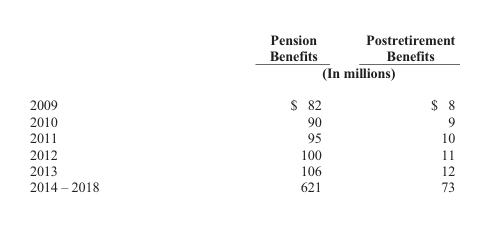table: (28, 29, 454, 195)
table column: (183, 29, 342, 195), (28, 29, 183, 195), (342, 29, 454, 195)
table column header: (28, 29, 454, 88)
table row: (28, 29, 454, 63), (28, 63, 454, 88), (28, 88, 454, 112), (28, 112, 454, 129), (28, 161, 454, 178), (28, 178, 454, 195), (28, 129, 454, 145), (28, 145, 454, 161)
table spanning cell: (183, 63, 454, 88)
